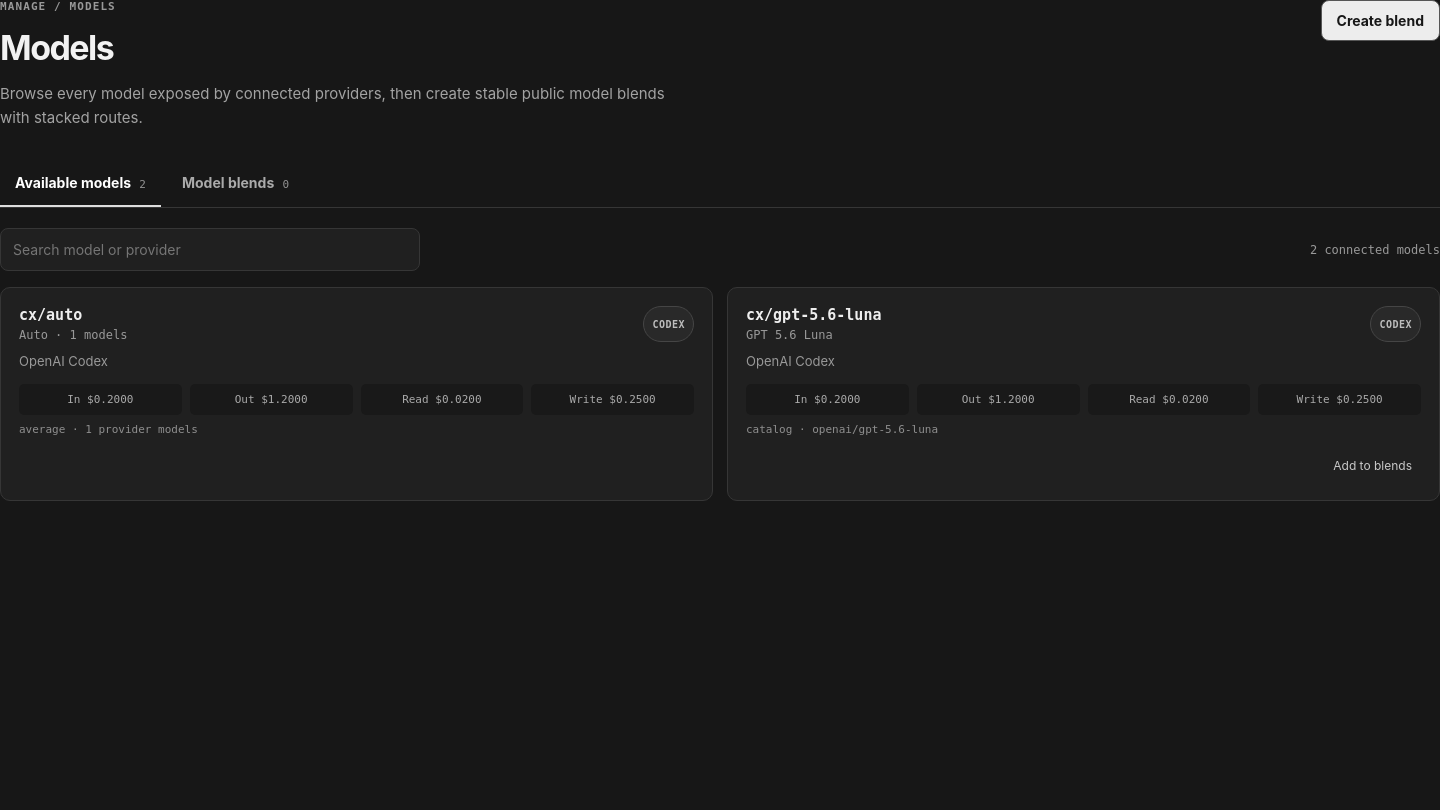
Test: lists connected public model with inherited original-model cost and prefills a blend
The width and height of the screenshot is (1440, 810).
Expected: the text "cx/gpt-5.6-luna" is shown, 746,306 -> 882,324
Expected: the text "In $0.2000" below "Auto · 1 models" is shown, 19,384 -> 182,415
Click the button "Add to blends". click: [1373, 466]
box: 1324,450 -> 1421,482
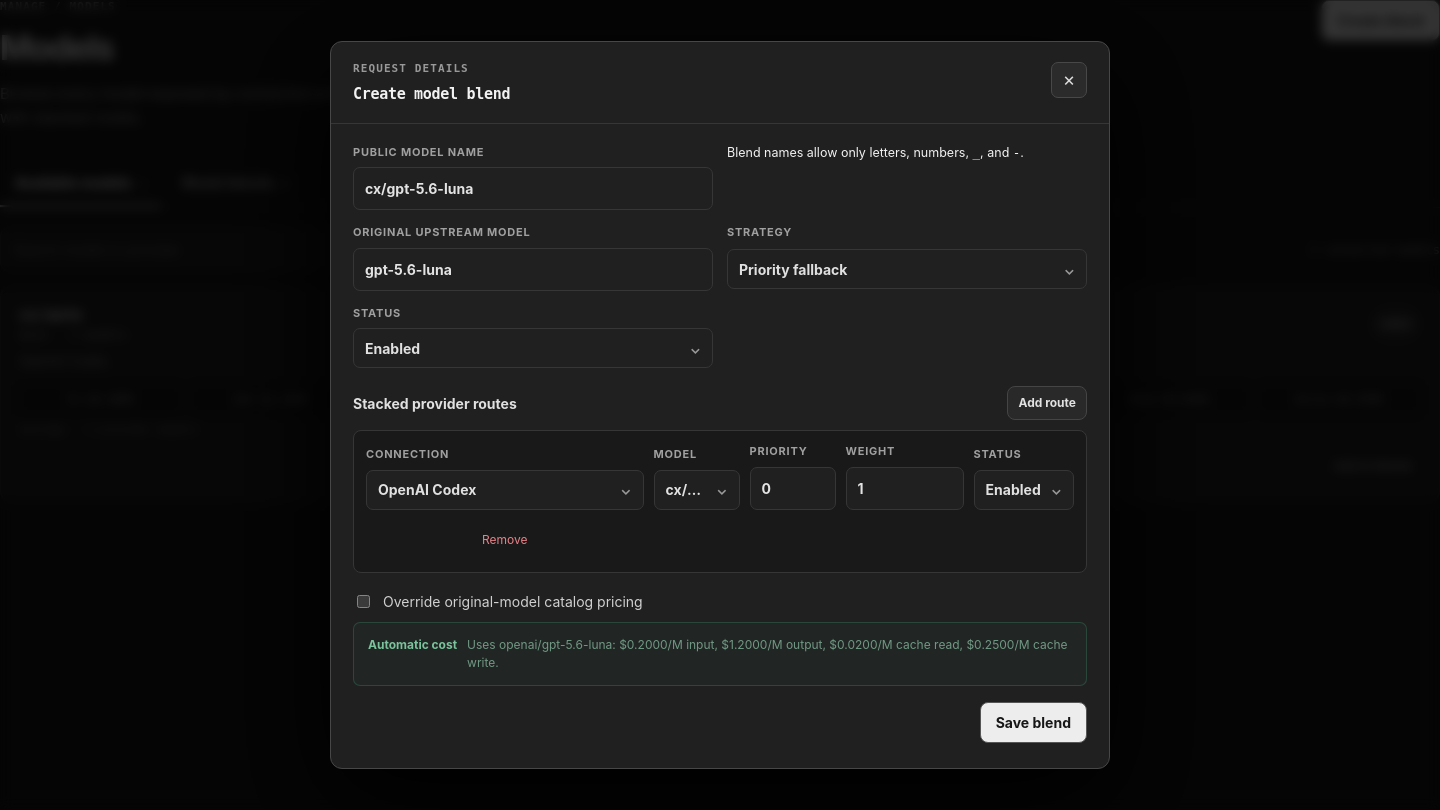
Expected: the dialog is shown, 330,41 -> 1110,769
Expected: the field labelled "Public model name" holds "cx/gpt-5.6-luna", 353,167 -> 713,210
Expected: the field labelled "Original upstream model" holds "gpt-5.6-luna", 353,248 -> 713,291
